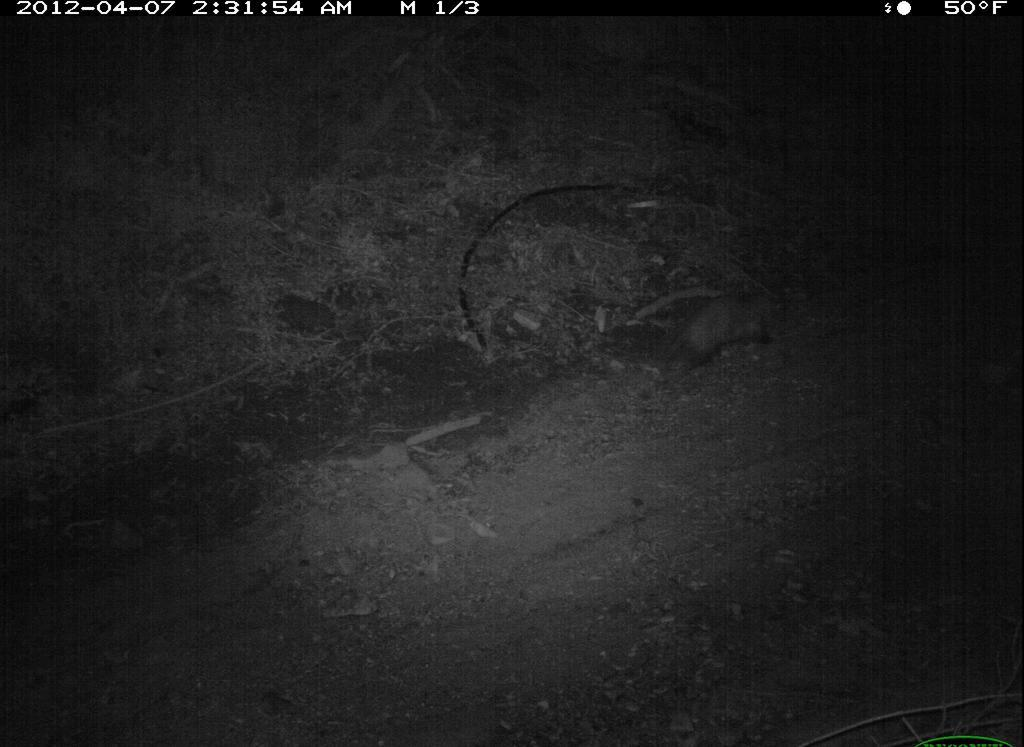opossum: (649, 273, 793, 393)
